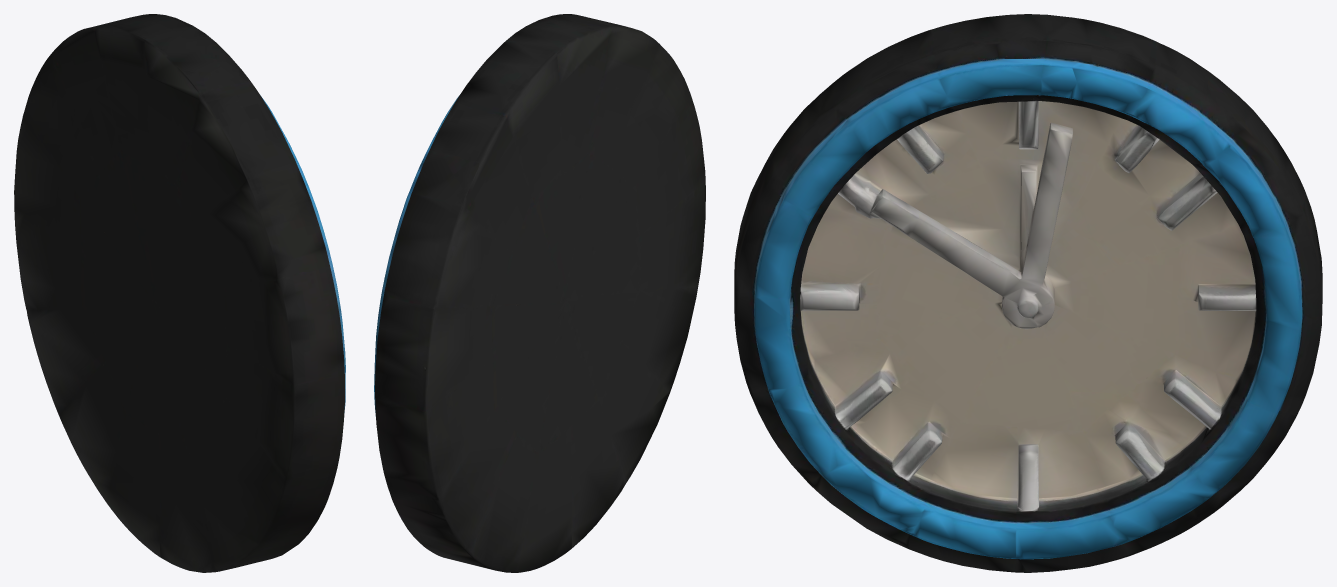
The model's file is gym-clock.glb.
3 renders of one model, left to right at view 1: azimuth 30°, elevation 25°; view 2: azimuth 150°, elevation 25°; view 3: azimuth 270°, elevation 25°, orthographic. The views are drawn at different scales.
Visible parts, largest first — view 1: tripo_node_0463ae04-035e-4033-8f36-0c27be92143b; view 2: tripo_node_0463ae04-035e-4033-8f36-0c27be92143b; view 3: tripo_node_0463ae04-035e-4033-8f36-0c27be92143b.
Boxes of the visible parts, left/top/right/bottom form: tripo_node_0463ae04-035e-4033-8f36-0c27be92143b: left=14, top=14, right=345, bottom=572; tripo_node_0463ae04-035e-4033-8f36-0c27be92143b: left=374, top=14, right=705, bottom=572; tripo_node_0463ae04-035e-4033-8f36-0c27be92143b: left=734, top=14, right=1322, bottom=572.
Size of the model in its own units: 0.1285 by 0.9991 by 0.9995.
1 material, 1 textured.
